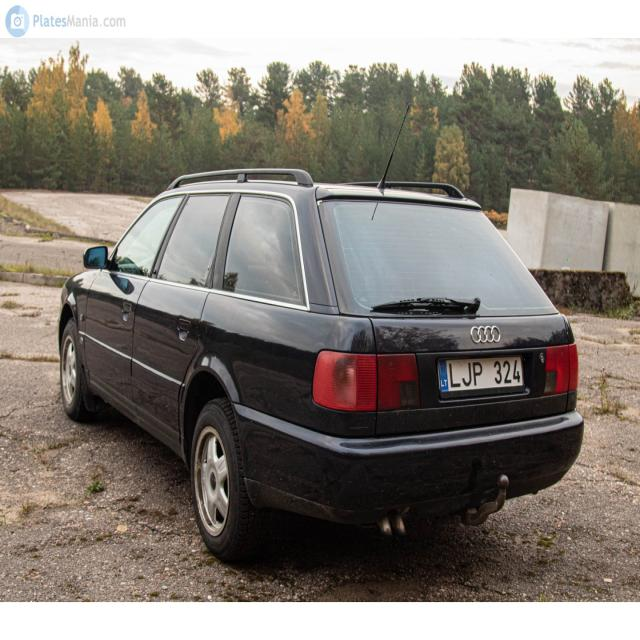License-plate: (437, 356, 525, 396)
